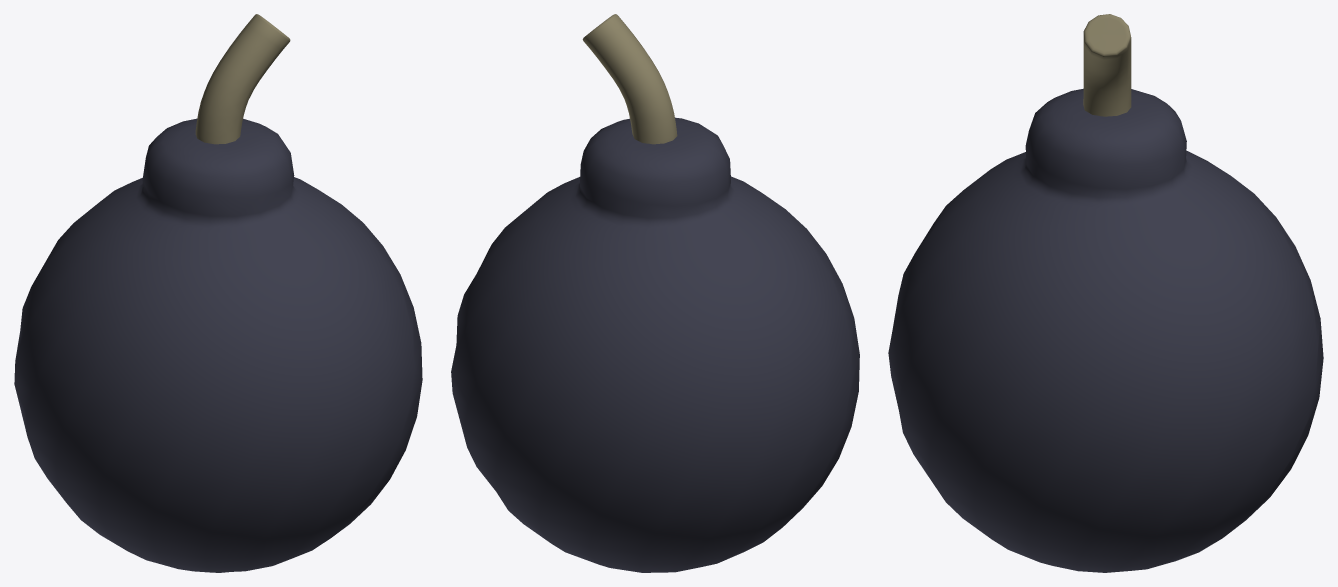
The model's file is bomb 1.fbx.
3 renders of one model, left to right at view 1: azimuth 30°, elevation 25°; view 2: azimuth 150°, elevation 25°; view 3: azimuth 270°, elevation 25°, orthographic. The views are drawn at different scales.
Parts seen in each view (by area): view 1: Bomb; view 2: Bomb; view 3: Bomb.
Part boxes in pixels (x1,y1,x2,y2): Bomb: (14,14,422,572); Bomb: (451,14,859,572); Bomb: (888,14,1323,572).
Size of the model in its own units: 183 by 184 by 261.
